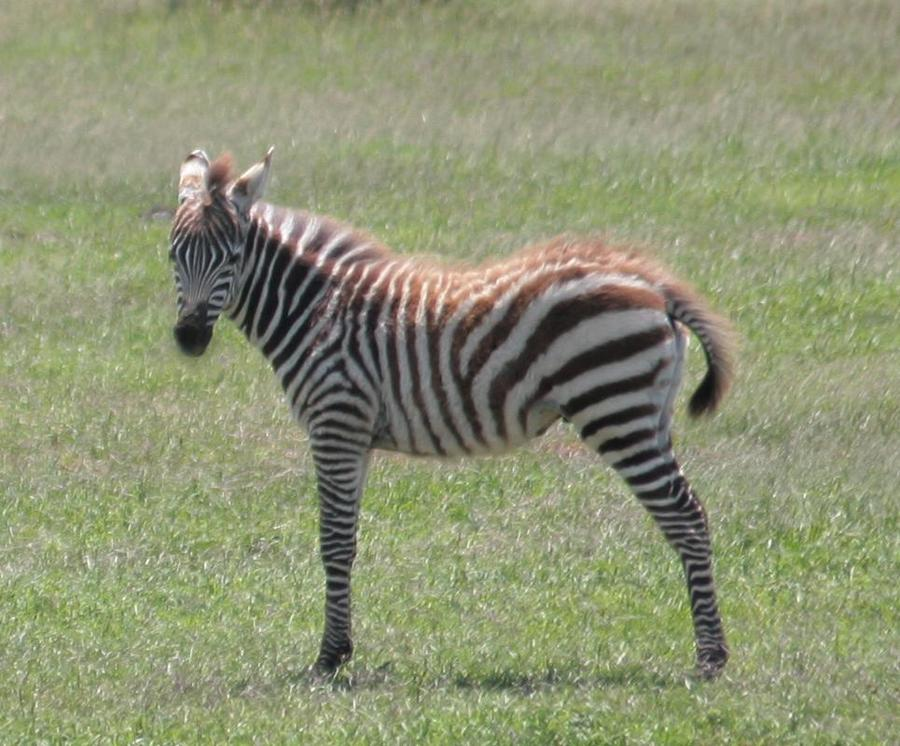zebra_plains: (211, 172, 754, 525)
